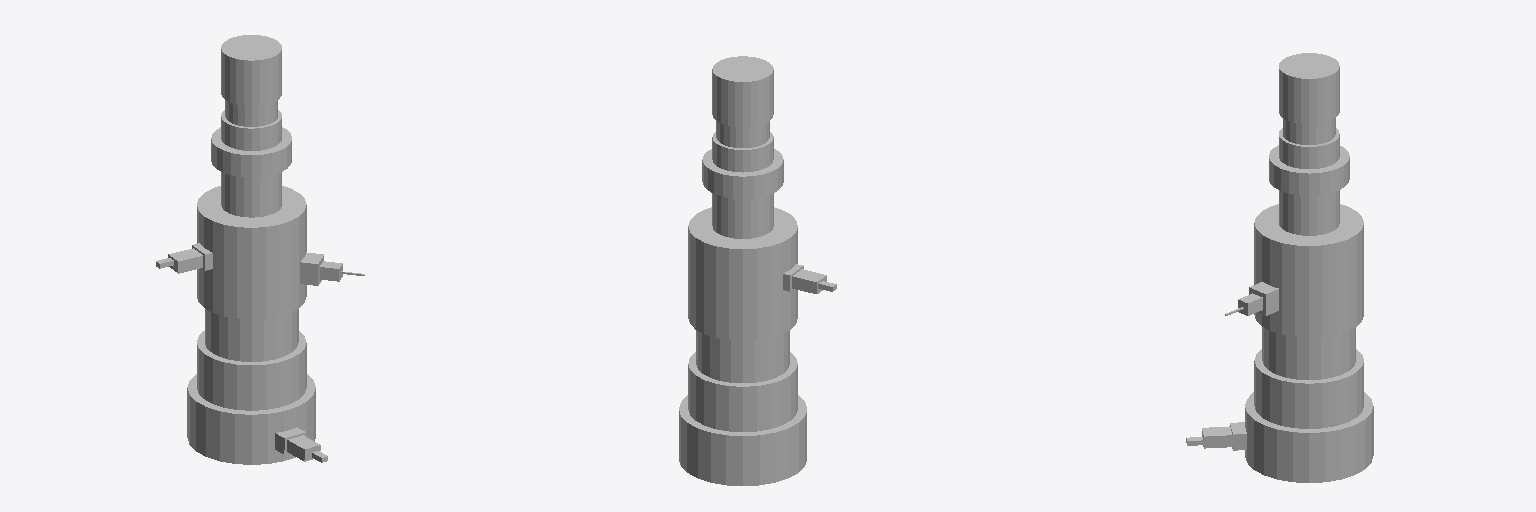
The model's file is spire.obj.
The picture shows the model from 3 angles: view 1: azimuth 30°, elevation 25°; view 2: azimuth 150°, elevation 25°; view 3: azimuth 270°, elevation 25°; orthographic projection.
Visible parts, largest first — view 1: Cylinder, Cube.002_Cube.003, Cube.001_Cube.002, Cube_Cube.001; view 2: Cylinder, Cube_Cube.001; view 3: Cylinder, Cube.002_Cube.003, Cube.001_Cube.002.
Boxes of the visible parts, box(x1,y1,x2,y2) form: Cylinder: box(187, 35, 315, 464); Cube.002_Cube.003: box(275, 427, 327, 462); Cube.001_Cube.002: box(300, 252, 364, 285); Cube_Cube.001: box(156, 243, 212, 273); Cylinder: box(679, 56, 806, 485); Cube_Cube.001: box(783, 264, 836, 293); Cylinder: box(1245, 53, 1373, 482); Cube.002_Cube.003: box(1186, 422, 1246, 450); Cube.001_Cube.002: box(1225, 282, 1278, 315).
Bounding box in the file's own units: 2.96 × 6.69 × 2.91.